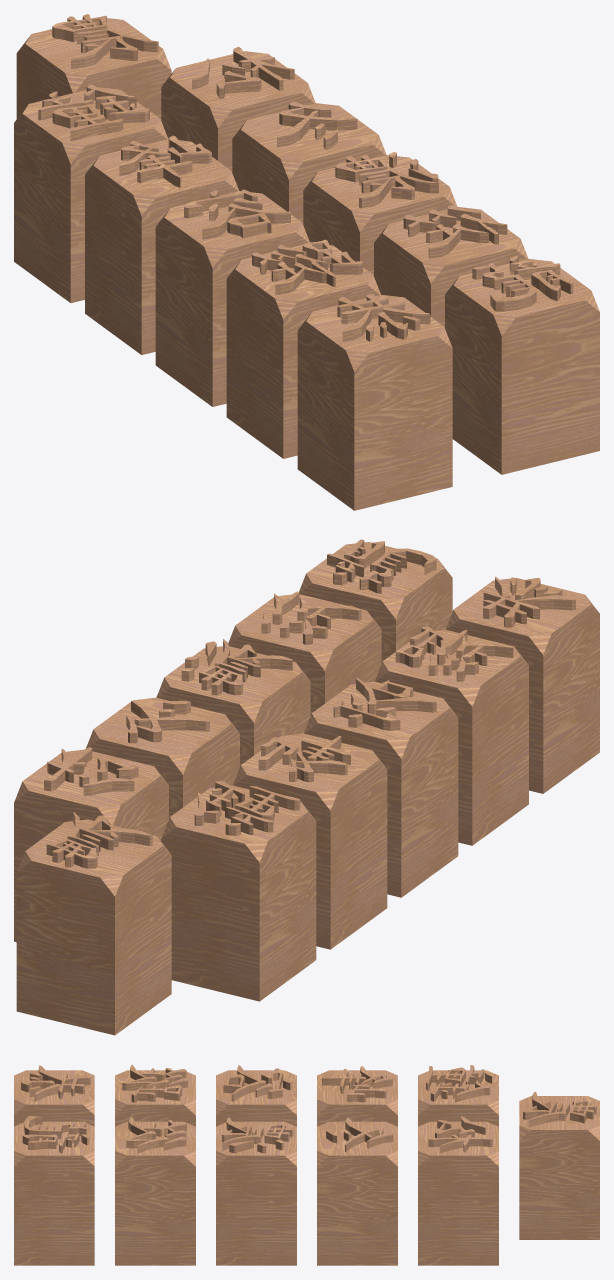
File: 木活字_2.fbx
3 views of the same model, one above another, from view 1: azimuth 30°, elevation 25°; view 2: azimuth 150°, elevation 25°; view 3: azimuth 270°, elevation 25° (orthographic). The views are drawn at different scales.
Visible parts, largest first — view 1: Box034, Box035, Box032, Box030, Box028, Box026, Box025, Box031, Box029, Box033, Box027; view 2: Box025, Box026, Box030, Box028, Box034, Box032, Box027, Box035, Box031, Box029, Box033; view 3: Box035, Box027, Box033, Box031, Box029, Box025, Box026, Box032, Box030, Box028, Box034.
Part boxes in pixels (x1,y1,x2,y2): Box034: [297, 293, 452, 510]; Box035: [445, 256, 599, 474]; Box032: [226, 239, 380, 458]; Box030: [155, 189, 309, 406]; Box028: [85, 135, 238, 354]; Box026: [14, 84, 168, 302]; Box025: [16, 14, 171, 120]; Box031: [303, 152, 457, 275]; Box029: [232, 101, 386, 224]; Box033: [374, 204, 528, 327]; Box027: [161, 47, 315, 172]; Box025: [16, 812, 171, 1035]; Box026: [161, 781, 316, 1001]; Box030: [304, 678, 458, 897]; Box028: [233, 733, 387, 949]; Box034: [445, 576, 599, 793]; Box032: [375, 626, 528, 845]; Box027: [14, 747, 168, 942]; Box035: [299, 539, 452, 662]; Box031: [156, 639, 310, 766]; Box029: [86, 697, 239, 818]; Box033: [228, 591, 381, 715]; Box035: [14, 1116, 94, 1265]; Box027: [418, 1116, 498, 1265]; Box033: [115, 1117, 195, 1265]; Box031: [216, 1117, 296, 1265]; Box029: [317, 1117, 397, 1265]; Box025: [519, 1091, 599, 1239]; Box026: [418, 1065, 498, 1126]; Box032: [115, 1064, 195, 1126]; Box030: [216, 1065, 296, 1126]; Box028: [317, 1066, 397, 1126]; Box034: [14, 1065, 94, 1126].
Size of the model in its own units: 5 by 3.2 by 14.5.
Materials: 1 (1 with a texture image).
